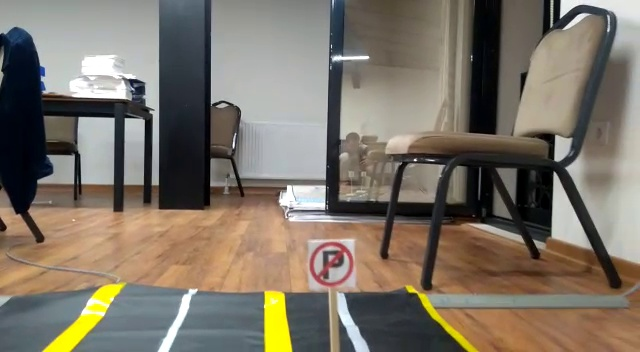park_yapilmaz: (308, 240, 358, 290)
